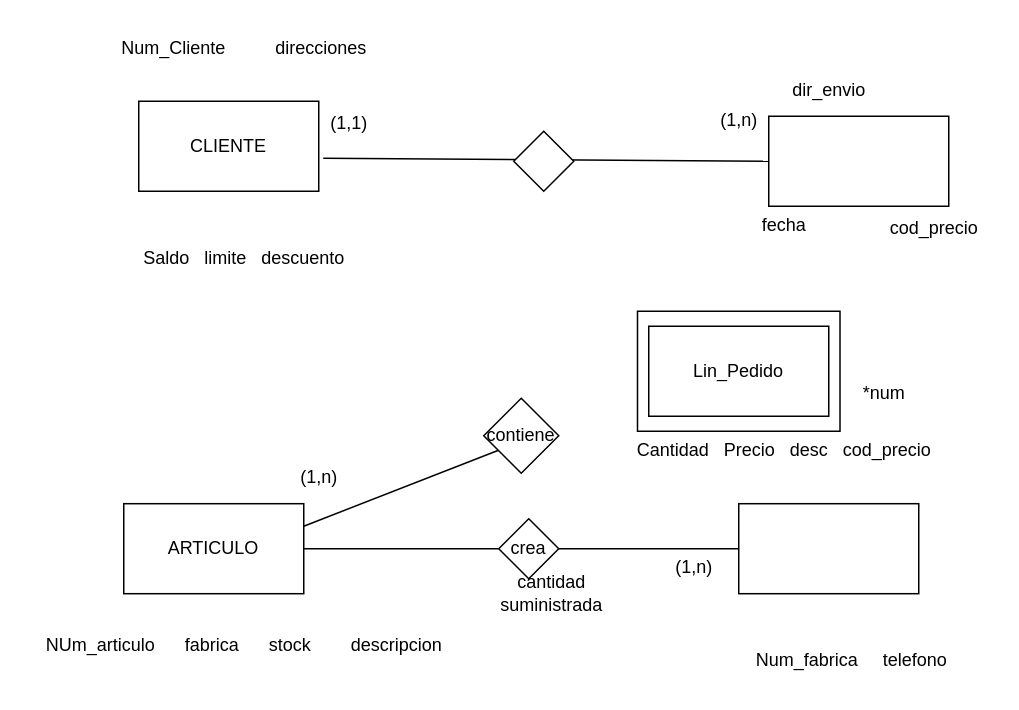
Image size: 1019x710. Some labels were removed from this diagram. Here are the shapes that lost their labels. From the top down, the centre of each, then its label:
the point at 543,160: hace
the point at 858,160: PEDIDO
the point at 828,548: FABRICA
